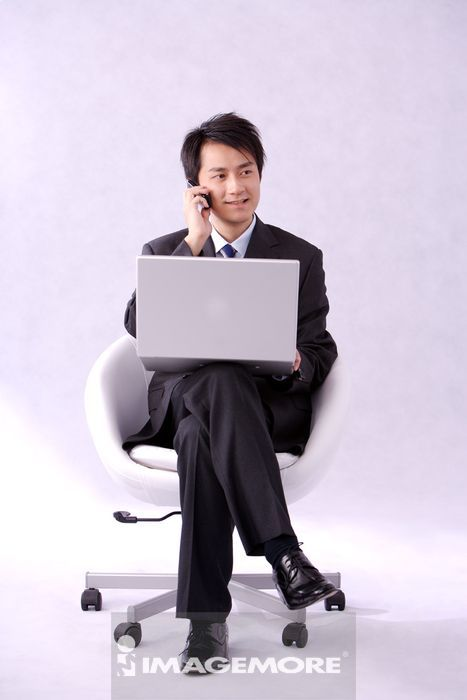phone: (186, 160, 259, 238)
